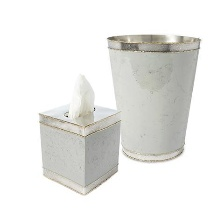tissue: (61, 66, 101, 122)
